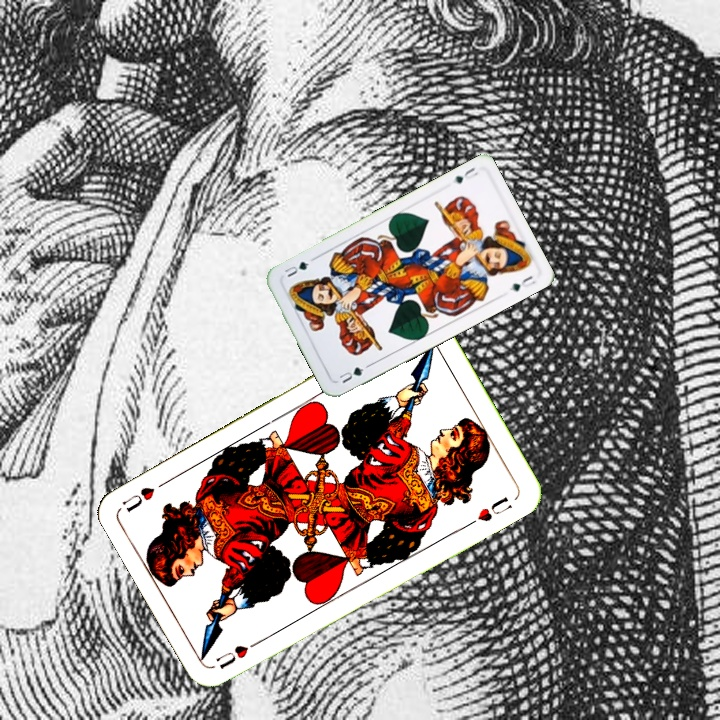GU: (448, 163, 480, 186), (335, 363, 366, 386)
HU: (211, 635, 266, 672)
